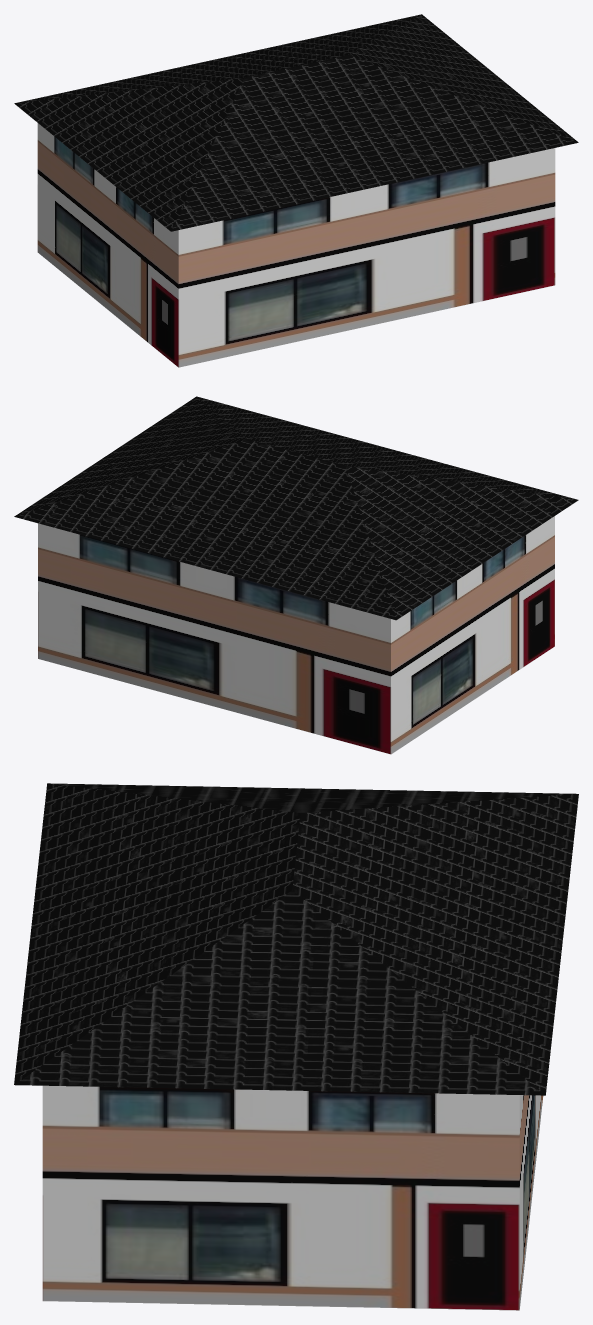
The picture shows the model from 3 angles, top to bottom: view 1: azimuth 30°, elevation 25°; view 2: azimuth 150°, elevation 25°; view 3: azimuth 270°, elevation 25°; orthographic projection. The views are drawn at different scales.
Parts seen in each view (by area): view 1: CityEngineMaterial_5_m, CityEngineMaterial_14_m; view 2: CityEngineMaterial_5_m, CityEngineMaterial_14_m; view 3: CityEngineMaterial_14_m, CityEngineMaterial_5_m.
Part boxes in pixels (bbox=[...]): CityEngineMaterial_5_m: bbox=[37, 123, 555, 367]; CityEngineMaterial_14_m: bbox=[14, 14, 578, 231]; CityEngineMaterial_5_m: bbox=[38, 516, 554, 754]; CityEngineMaterial_14_m: bbox=[14, 396, 578, 620]; CityEngineMaterial_14_m: bbox=[14, 783, 578, 1095]; CityEngineMaterial_5_m: bbox=[42, 1085, 543, 1310].
Bounding box in the file's own units: 25.33 × 11.91 × 19.38.
